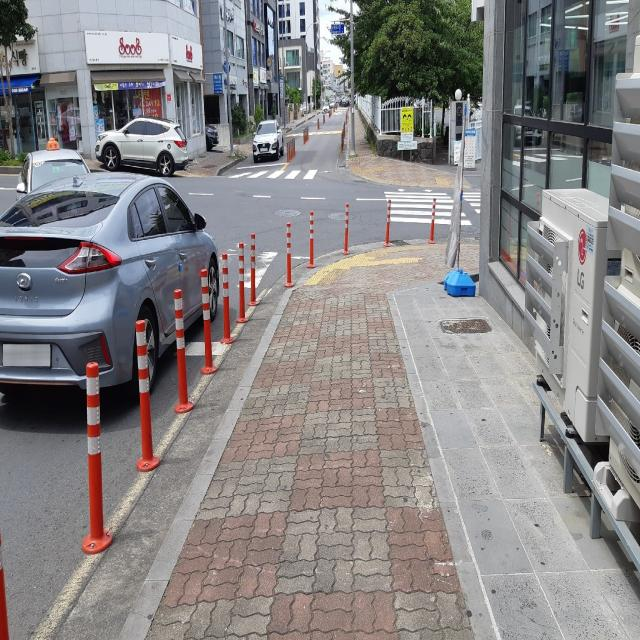횡단보도: (384, 188, 482, 226)
